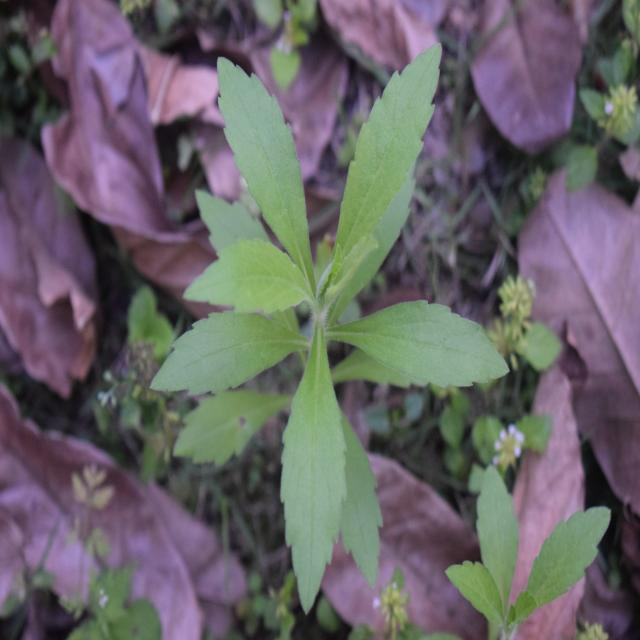horseweed: (185, 68, 475, 550)
